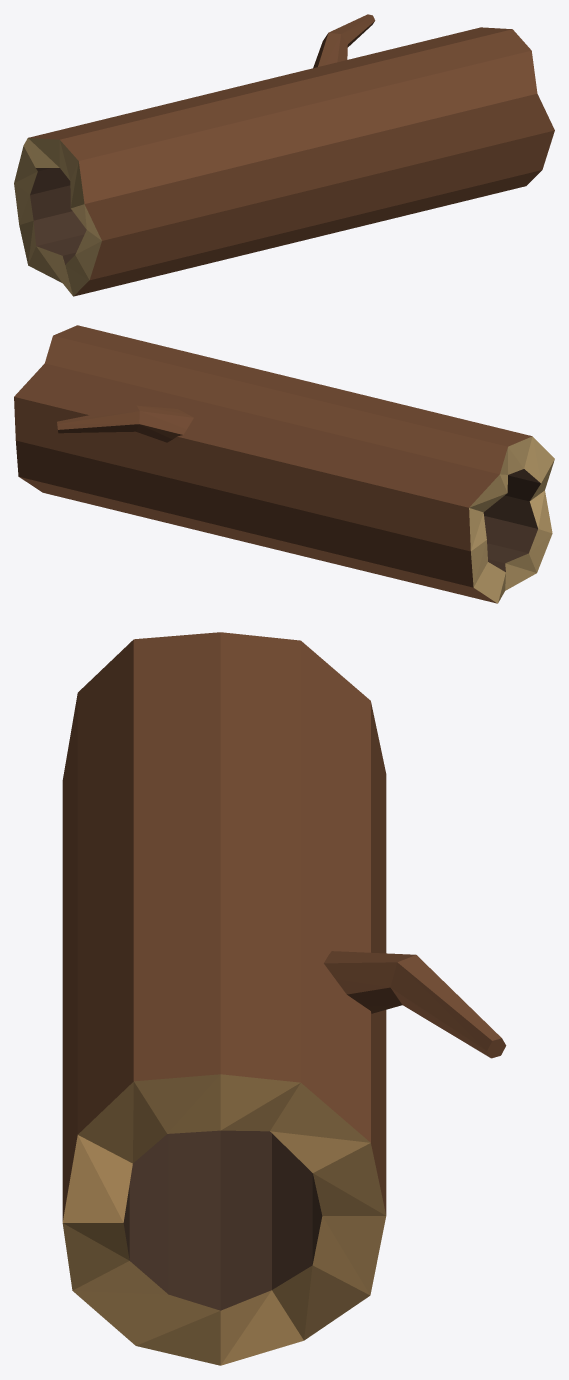
File: Prop_Common_HollowLog_001.glb
3 views of the same model, one above another, from view 1: azimuth 30°, elevation 25°; view 2: azimuth 150°, elevation 25°; view 3: azimuth 270°, elevation 25° (orthographic). The views are drawn at different scales.
Visible parts, largest first — view 1: Prop_Common_HollowLog_001; view 2: Prop_Common_HollowLog_001; view 3: Prop_Common_HollowLog_001.
Part boxes in pixels (x1,y1,x2,y2): Prop_Common_HollowLog_001: (14,14,554,296); Prop_Common_HollowLog_001: (14,325,554,603); Prop_Common_HollowLog_001: (62,632,506,1365).
Size of the model in its own units: 3.72 by 1.1 by 1.53.
